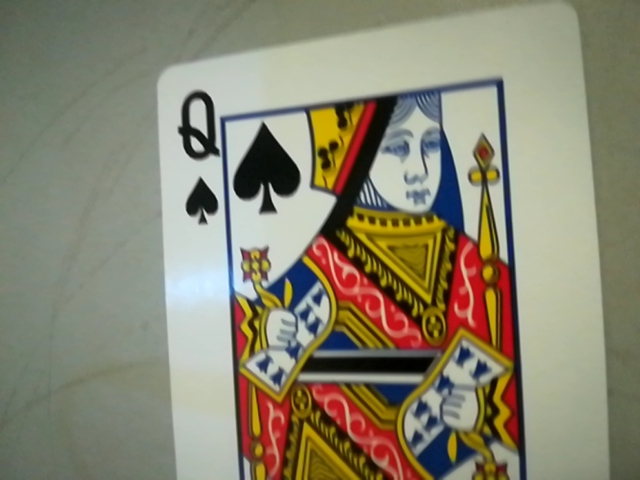ht q: (166, 81, 229, 227)
